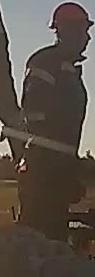gloves: (0, 105, 27, 164)
helmet: (49, 2, 93, 32)
vest: (24, 49, 85, 184)
